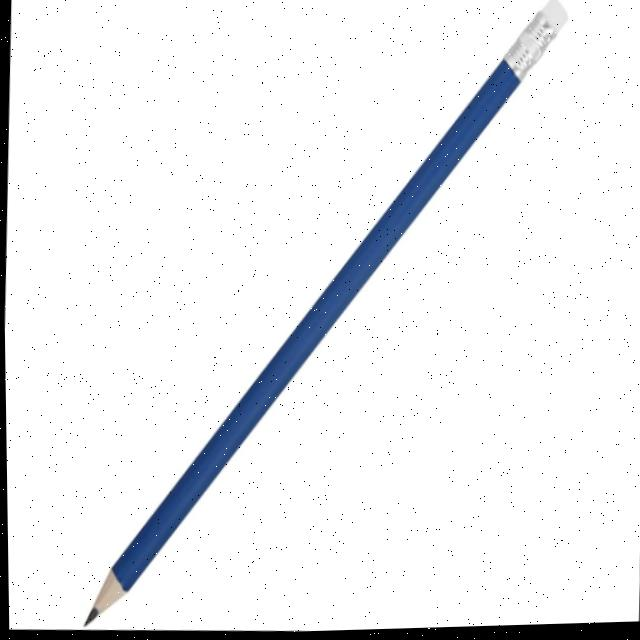pencil: (75, 0, 571, 629)
